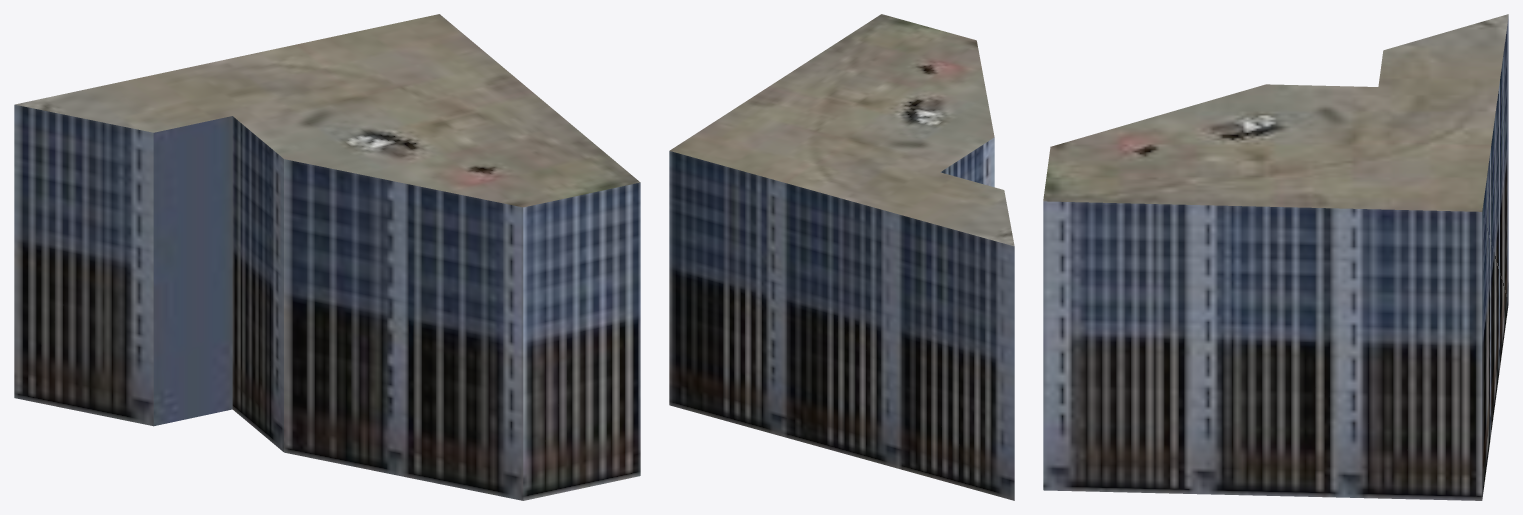
3 renders of one model, left to right at view 1: azimuth 30°, elevation 25°; view 2: azimuth 150°, elevation 25°; view 3: azimuth 270°, elevation 25°, orthographic. The views are drawn at different scales.
Parts seen in each view (by area): view 1: b117; view 2: b117; view 3: b117.
Part boxes in pixels (left/top/right/bottom): b117: left=14, top=14, right=640, bottom=500; b117: left=669, top=14, right=1014, bottom=500; b117: left=1043, top=14, right=1508, bottom=500.
Size of the model in its own units: 42.6 by 29.02 by 42.36.
1 material, 1 textured.
